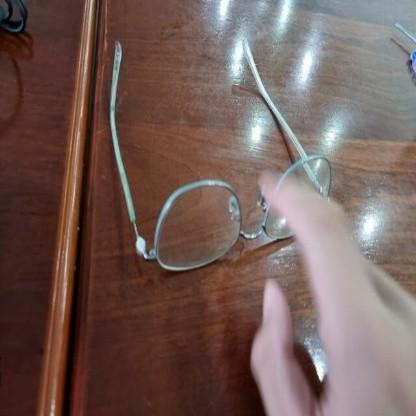not trash: (102, 27, 343, 266), (381, 7, 416, 76)
